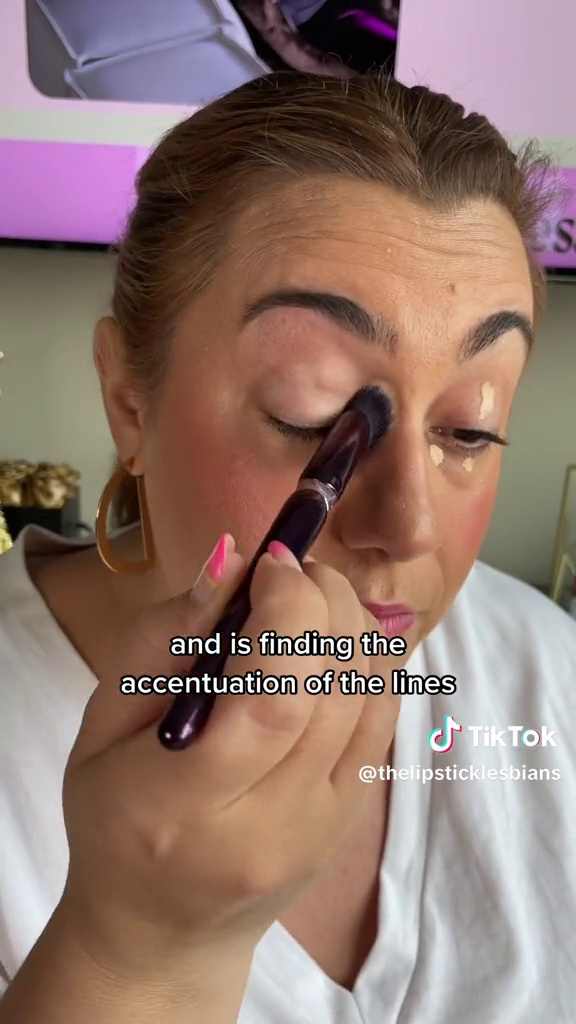train' :'yolo_data/train/images',: (132, 375, 411, 778)
